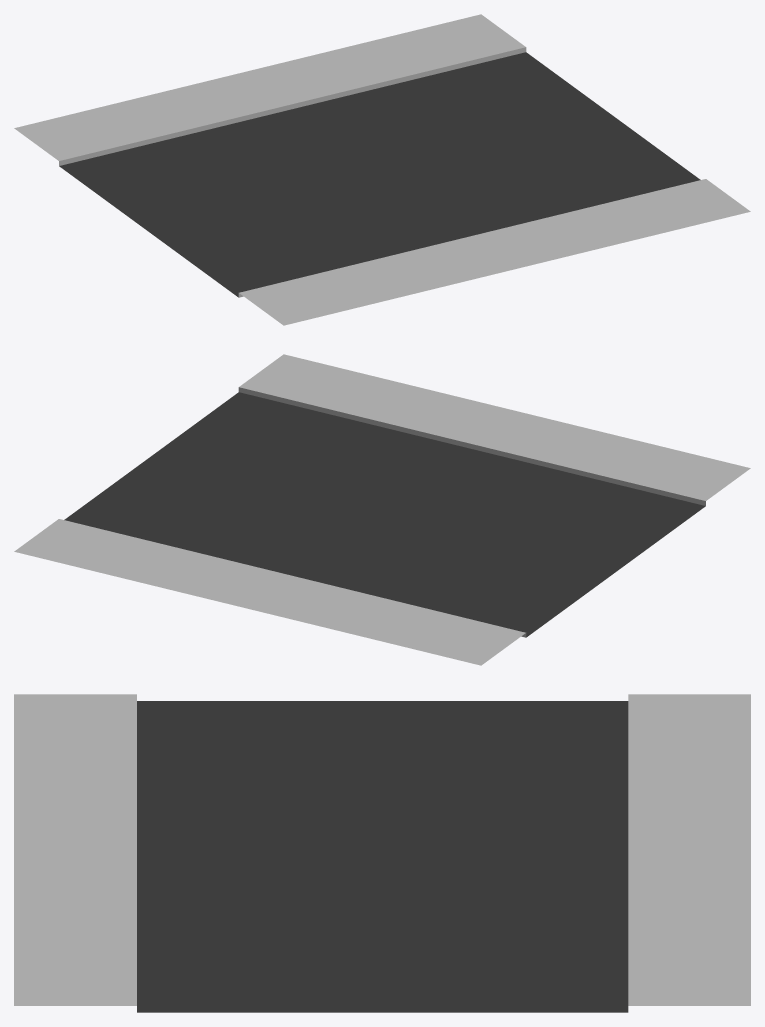
Rendered from Strasse1.glb.
3 renders of one model, top to bottom at view 1: azimuth 30°, elevation 25°; view 2: azimuth 150°, elevation 25°; view 3: azimuth 270°, elevation 25°, orthographic. The views are drawn at different scales.
Visible parts, largest first — view 1: Straße1; view 2: Straße1; view 3: Straße1.
Part boxes in pixels (bbox=[...]): Straße1: bbox=[14, 14, 750, 325]; Straße1: bbox=[14, 354, 750, 665]; Straße1: bbox=[14, 694, 750, 1012].
Size of the model in its own units: 6 by 0.061 by 6.
1 material, 1 textured.
